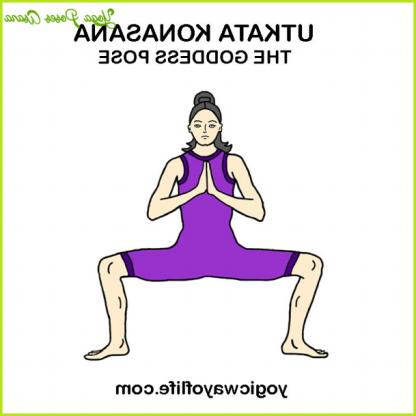godness: (67, 80, 340, 378)
